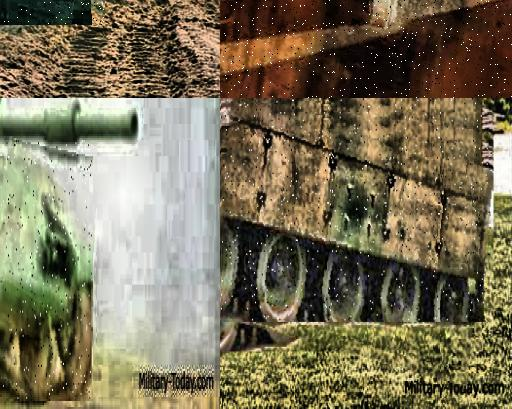tanks: (222, 100, 494, 321), (221, 1, 512, 99), (2, 140, 93, 402), (1, 105, 139, 145)
